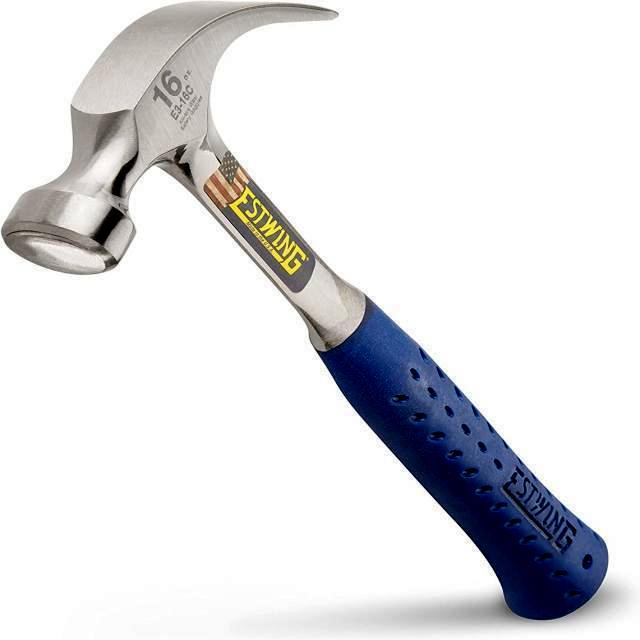hammer: (1, 1, 626, 632)
